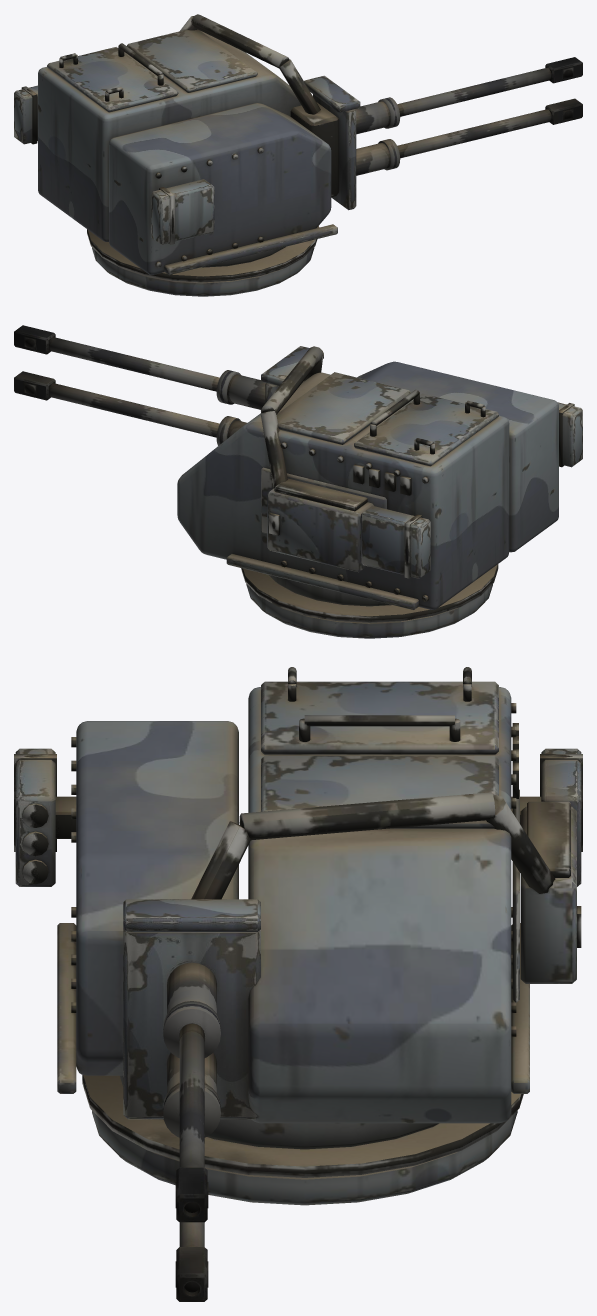
The model's file is turret_grach_t2_sea_fog.glb.
3 renders of one model, top to bottom at view 1: azimuth 30°, elevation 25°; view 2: azimuth 150°, elevation 25°; view 3: azimuth 270°, elevation 25°, orthographic. The views are drawn at different scales.
Parts seen in each view (by area): view 1: turret_light_t2, guns, pods; view 2: turret_light_t2, guns, pods; view 3: turret_light_t2, guns, pods.
Part boxes in pixels (bbox=[...]): turret_light_t2: bbox=[38, 14, 337, 296]; guns: bbox=[290, 57, 582, 210]; pods: bbox=[14, 85, 214, 244]; turret_light_t2: bbox=[177, 346, 558, 638]; guns: bbox=[14, 325, 323, 445]; pods: bbox=[360, 402, 582, 578]; turret_light_t2: bbox=[57, 667, 581, 1205]; guns: bbox=[123, 899, 260, 1301]; pods: bbox=[14, 748, 582, 886].
Size of the model in its own units: 1.64 by 0.6416 by 0.9088.
Materials: 3 (3 with a texture image).
